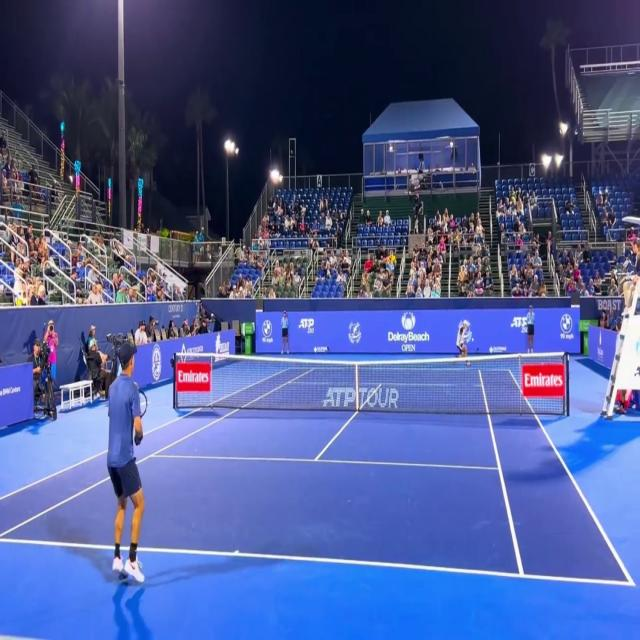tennisBall: (470, 334, 477, 345)
